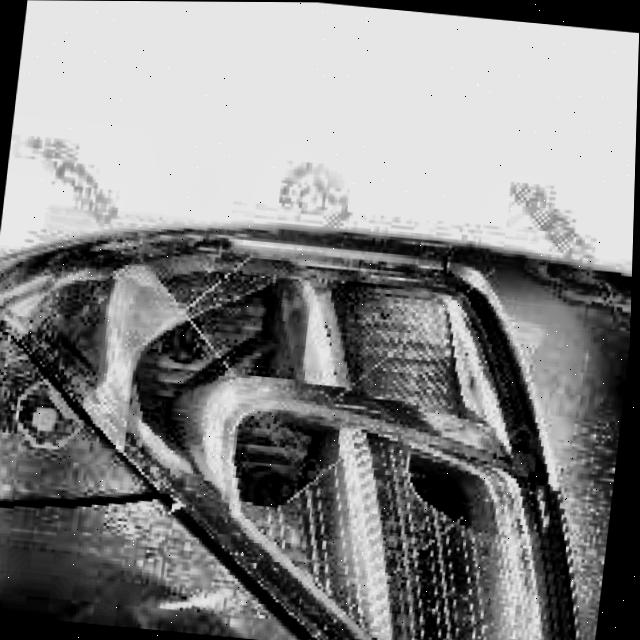tail_lamp: (124, 280, 351, 499), (392, 452, 516, 540)
